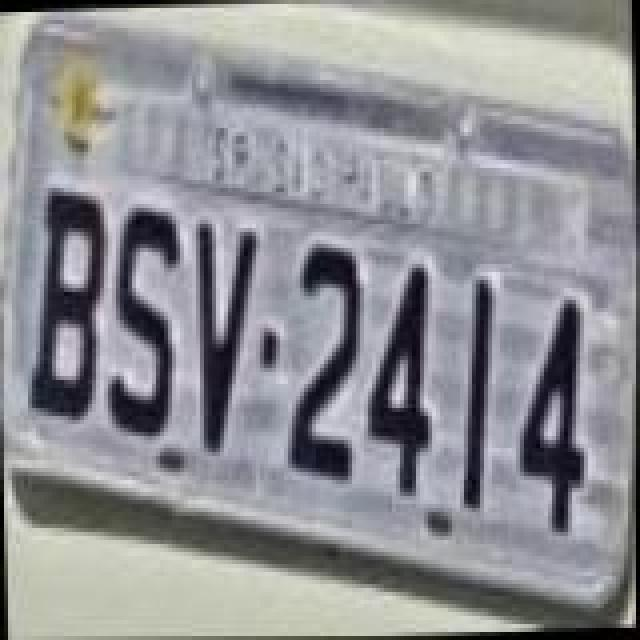1: (446, 270, 498, 514)
2: (282, 234, 374, 490)
4: (514, 288, 594, 536), (360, 262, 440, 498)
B: (16, 182, 116, 426)
S: (98, 196, 186, 440)
V: (188, 206, 264, 454)
